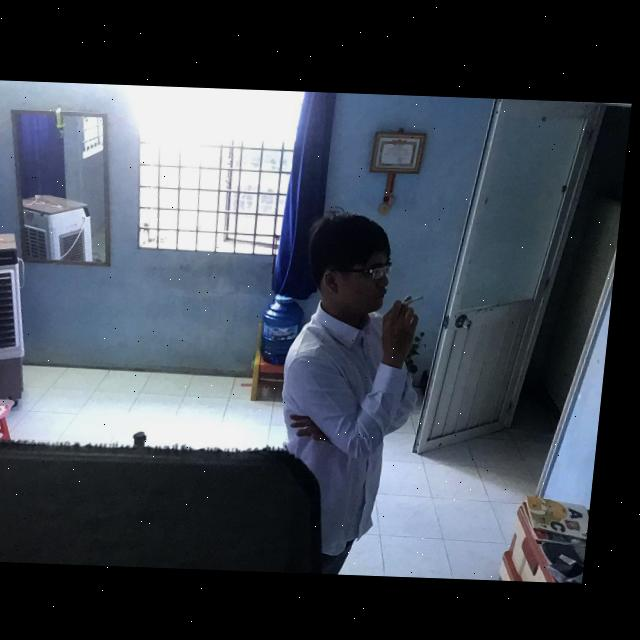cigarette: (407, 293, 430, 303)
